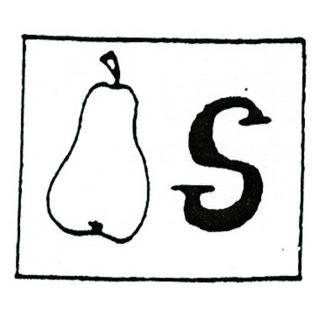Pear: (46, 48, 150, 245)
